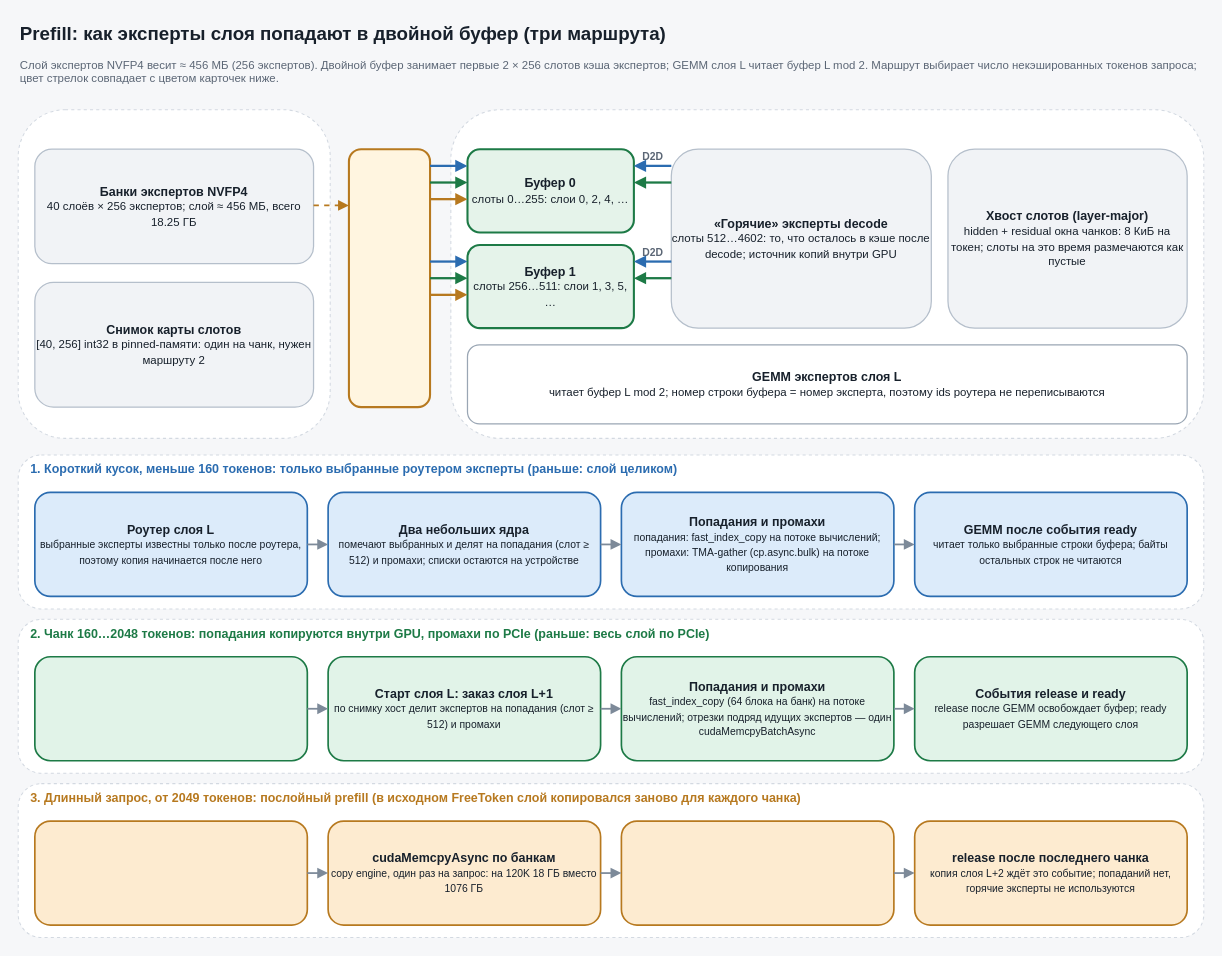
Image size: 1222x956. Some labels were removed from this diagram. The shapes that lost their labels are listed below. From the top down, each one's box as (x1, y1, x2, y2) in pixels, then its label:
(17, 109, 330, 438): RAM хоста (pinned)
(347, 148, 431, 408): PCIe 5.0 x16 ≈ 41–49 ГБ/с
(450, 109, 1204, 438): VRAM: кэш слотов экспертов (4603 слота)
(33, 655, 308, 761): Снимок карты слотов в начале чанка, в pinned-память: одна синхронизация на чанк
(33, 820, 308, 925): Чанк 0 слоя L заказывает копию слоя L+1 целиком в свободный буфер
(620, 820, 894, 925): Все чанки слоя L читают один буфер; hidden и residual окна лежат в хвосте слотов
